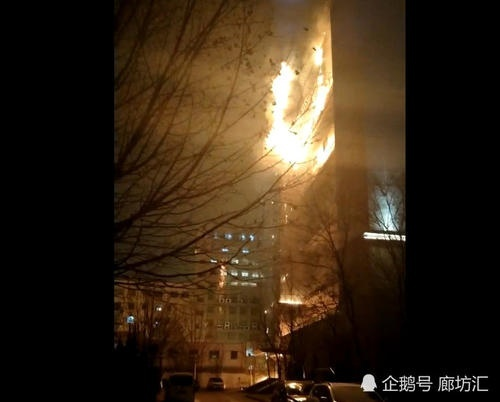fire: (263, 35, 335, 172)
